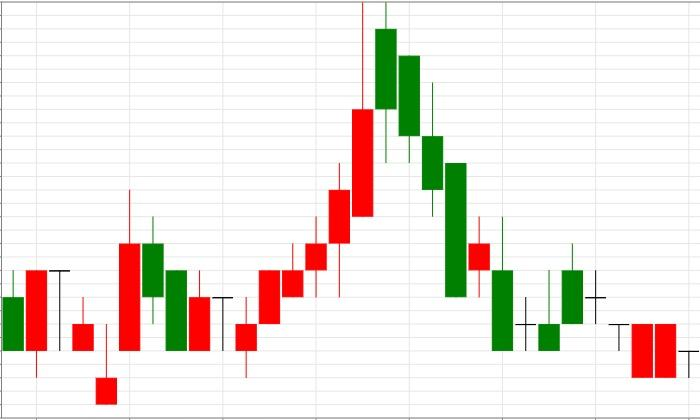three_black_crows_fall: (235, 1, 443, 378)
